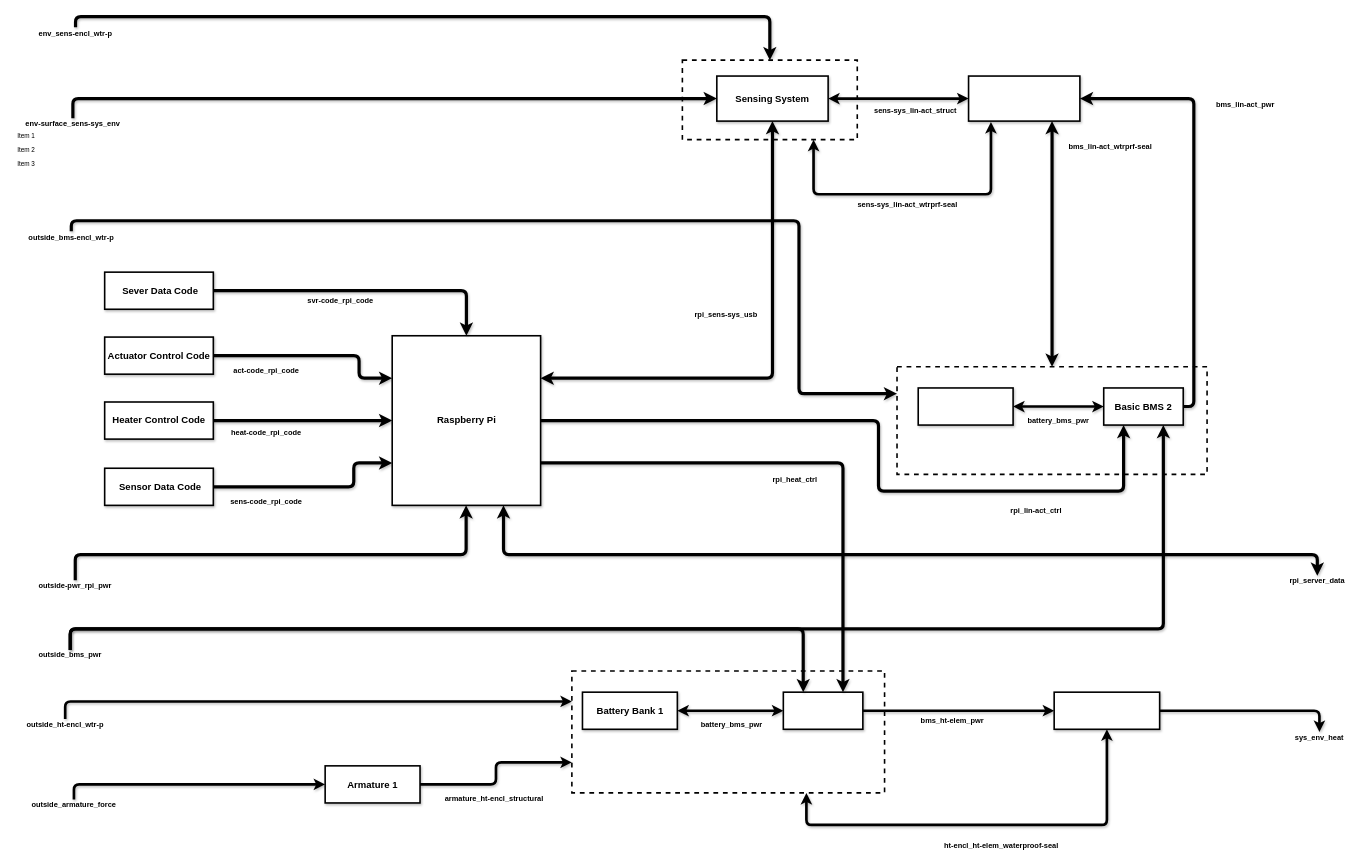
This 1370x859 diagram has some shape labels left out. Here are the shapes that lost their labels. From the top down, the centre of each, then its label:
the point at 1024,99: Linear Actuator
the point at 966,407: Battery Bank 2
the point at 823,711: Basic BMS 1
the point at 1107,711: Heating Element 1
